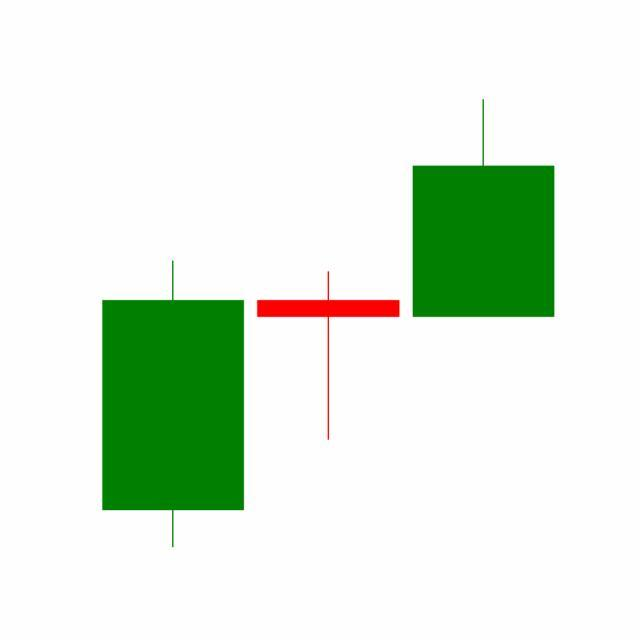Spinning Top: (250, 269, 407, 443)
